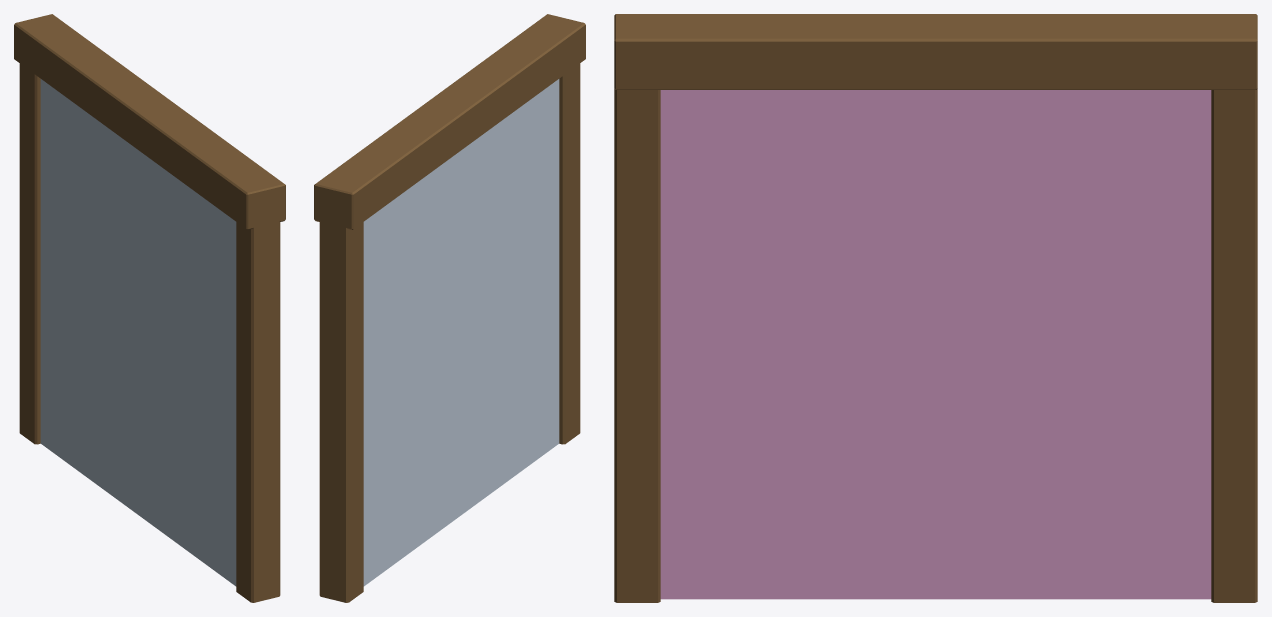
The model's file is Wall_Plane02.fbx.
The picture shows the model from 3 angles, left to right: view 1: azimuth 30°, elevation 25°; view 2: azimuth 150°, elevation 25°; view 3: azimuth 270°, elevation 25°; orthographic projection. The views are drawn at different scales.
Parts seen in each view (by area): view 1: Cube.045, Cube.049, Cube.046, Cube.047; view 2: Cube.045, Cube.049, Cube.047, Cube.046; view 3: Cube.045, Cube.049, Cube.046, Cube.047.
Boxes of the visible parts, x1,y1,x2,y2 form: Cube.045: (40,79,236,586); Cube.049: (14,14,285,229); Cube.046: (236,204,280,602); Cube.047: (19,63,40,444); Cube.045: (363,79,559,586); Cube.049: (314,14,585,229); Cube.047: (319,204,363,602); Cube.046: (559,63,580,444); Cube.045: (660,90,1211,599); Cube.049: (614,14,1257,89); Cube.046: (614,89,660,602); Cube.047: (1211,89,1257,602).
Size of the model in its own units: 21.15 by 209 by 216.
